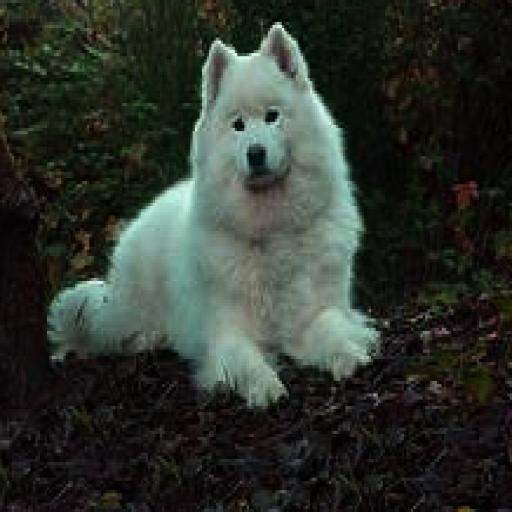dog_face: (193, 28, 298, 194)
